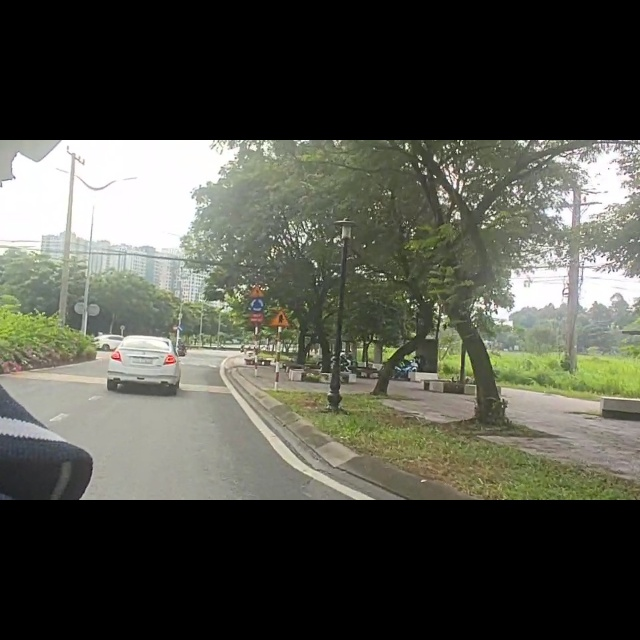bien_hieu_lenh: (269, 299, 291, 333), (249, 280, 267, 305), (249, 257, 267, 280), (178, 329, 185, 341), (172, 327, 177, 338)
